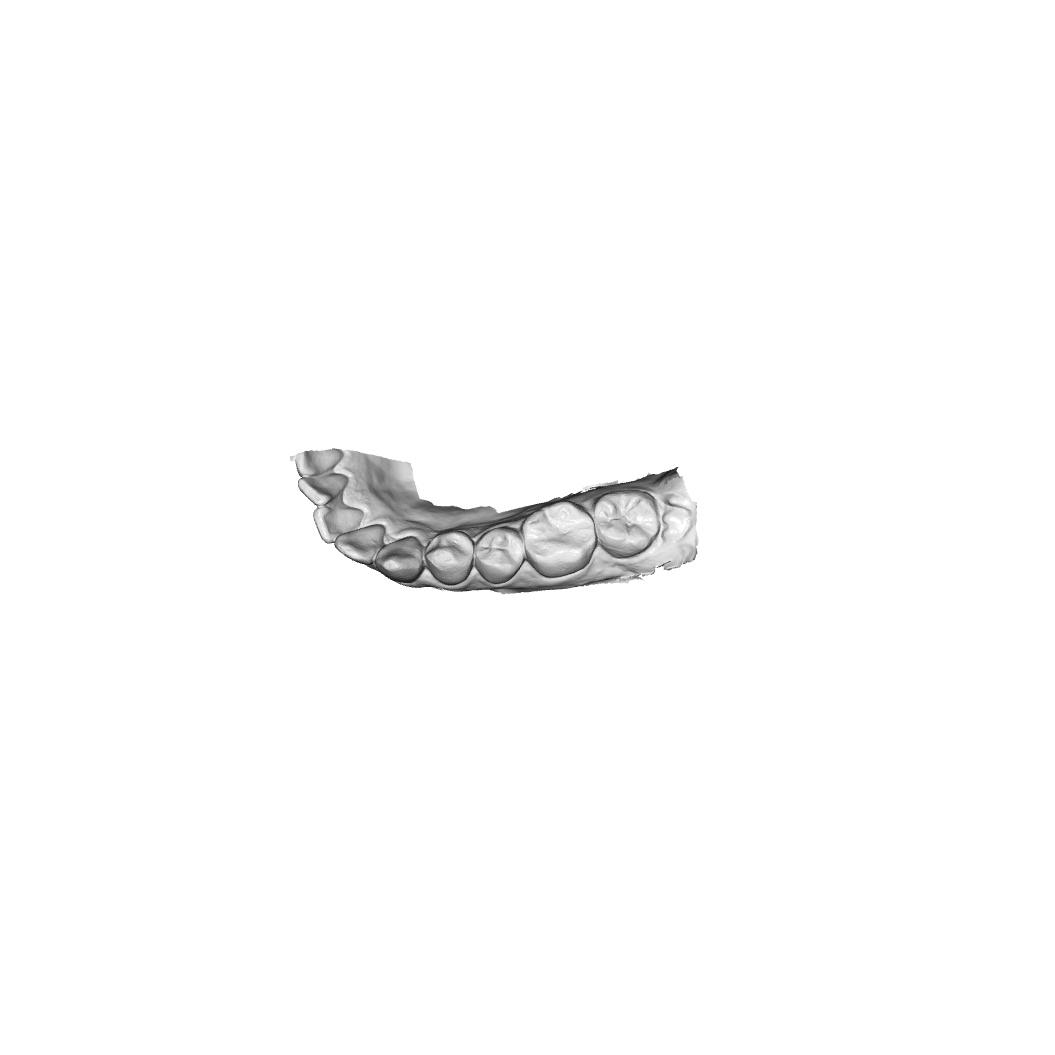canine: (375, 536, 425, 584)
incisor: (333, 524, 386, 567), (312, 505, 365, 545), (296, 473, 349, 506), (294, 447, 344, 479)
molar: (520, 498, 598, 579), (593, 487, 661, 560)
premolar: (475, 525, 525, 585), (423, 529, 475, 586)
